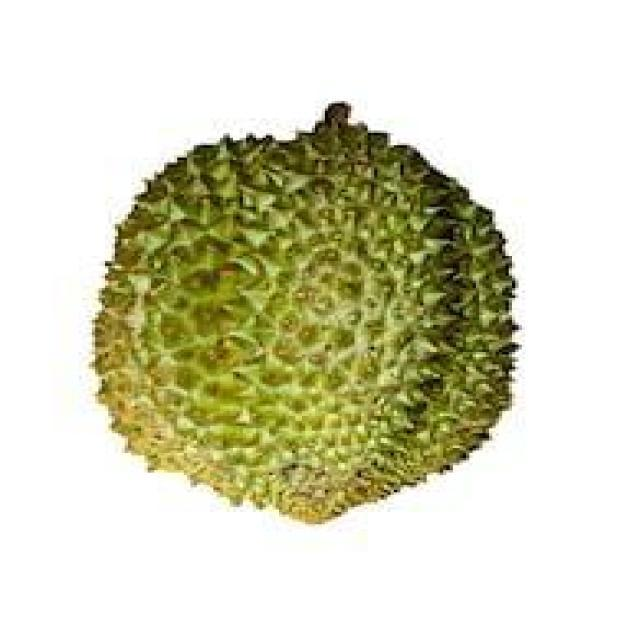immature: (88, 119, 522, 533)
